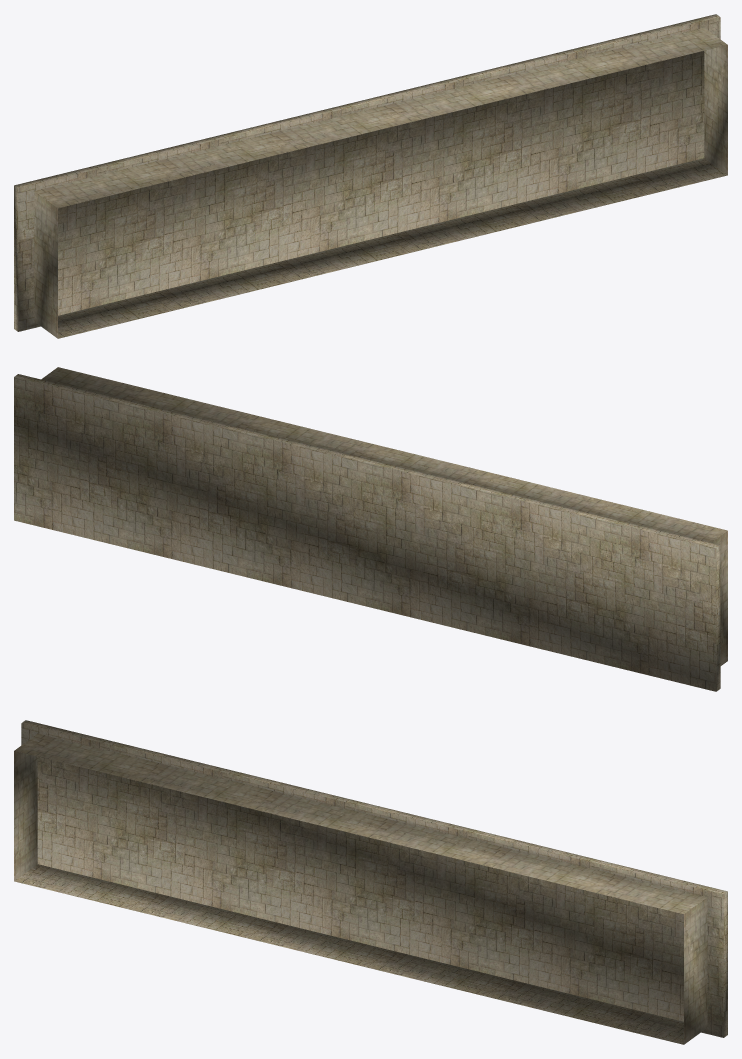
Rendered from platform1.fbx.
3 renders of one model, top to bottom at view 1: azimuth 30°, elevation 25°; view 2: azimuth 150°, elevation 25°; view 3: azimuth 330°, elevation 25°, orthographic.
Visible parts, largest first — view 1: platform1; view 2: platform1; view 3: platform1.
Boxes of the visible parts, <box> form: platform1: <box>14,14,727,338</box>; platform1: <box>14,367,727,691</box>; platform1: <box>14,720,727,1044</box>.
Size of the model in its own units: 20.49 by 4 by 1.41.
